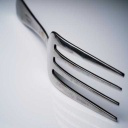fork: (14, 1, 123, 122)
